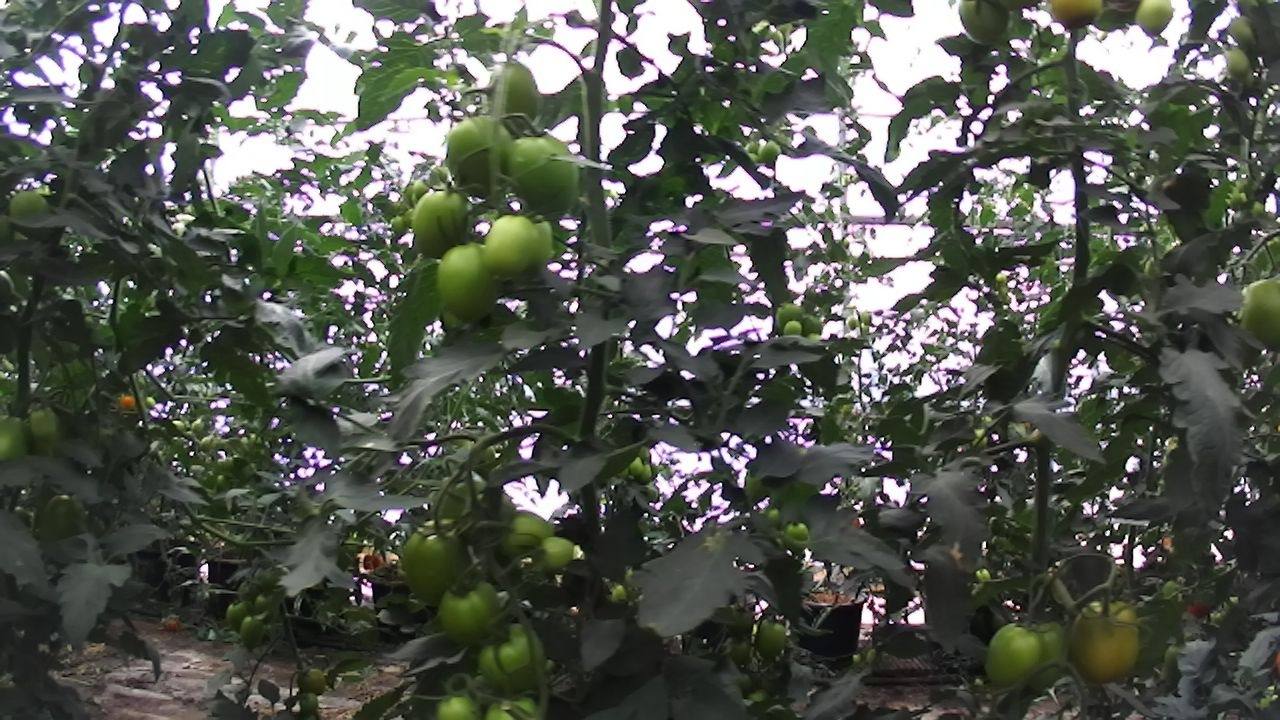tomato: (496, 115, 600, 234), (392, 506, 488, 620), (423, 234, 522, 337), (437, 99, 529, 208), (1062, 583, 1151, 695), (429, 564, 521, 660), (470, 609, 561, 704), (472, 199, 556, 298), (403, 174, 488, 267), (478, 46, 557, 143), (976, 612, 1054, 695), (1016, 608, 1084, 698), (1227, 258, 1280, 370), (32, 486, 97, 571), (494, 499, 562, 569), (0, 176, 66, 248), (521, 523, 587, 587), (20, 392, 80, 455), (1038, 0, 1117, 47), (950, 0, 1020, 51), (748, 610, 796, 669), (0, 403, 38, 473), (1129, 0, 1184, 43), (1219, 10, 1269, 54), (776, 511, 820, 560), (1218, 40, 1260, 84), (294, 660, 336, 699), (235, 611, 269, 657), (222, 595, 257, 638), (771, 296, 809, 334), (755, 136, 787, 172), (795, 310, 828, 342), (778, 313, 809, 345), (294, 687, 324, 720), (356, 547, 387, 577), (387, 209, 416, 239), (114, 388, 143, 416), (841, 308, 864, 337), (635, 460, 656, 487), (197, 432, 219, 455), (189, 413, 210, 436), (627, 454, 647, 478), (169, 416, 189, 434), (141, 392, 159, 412)
